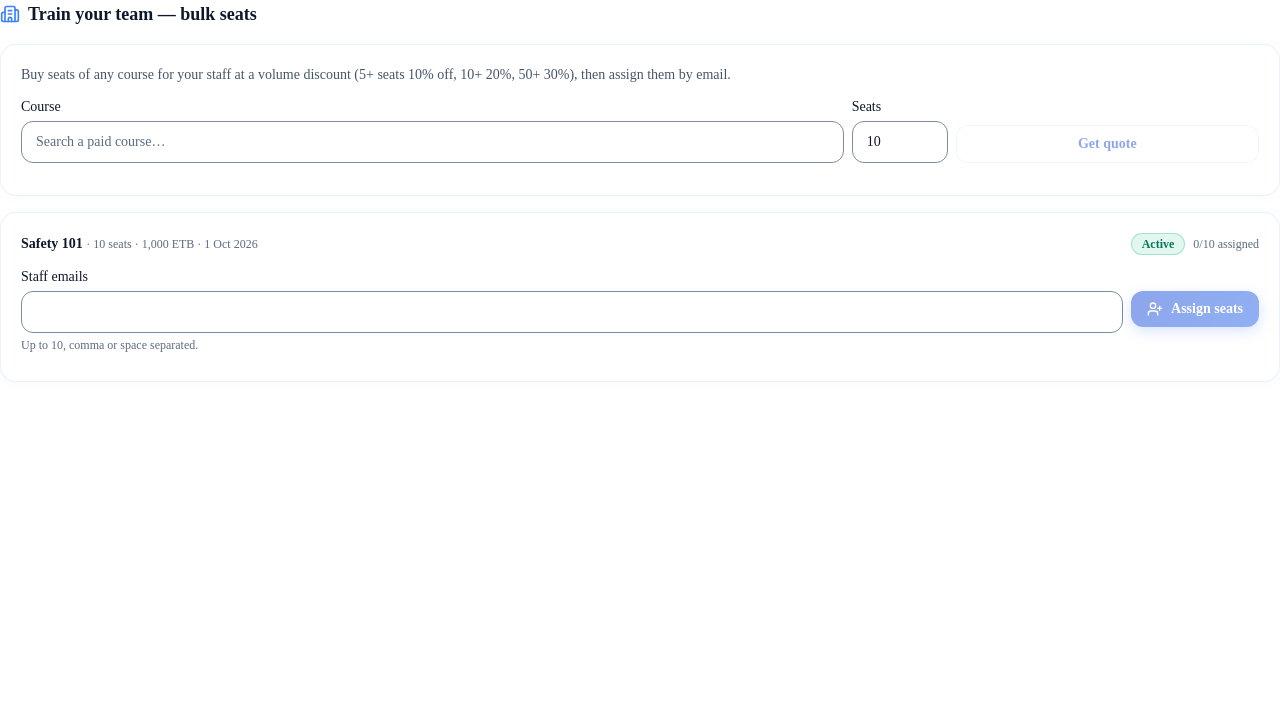
BulkPurchases assign dialog › sends the de-duplicated list once confirmed
Type "a@x.et a@x.et" into the field labelled "Staff emails".
click(572, 312); type("a@x.et a@x.et")  # box top-left (21, 291), bottom-right (1123, 333)
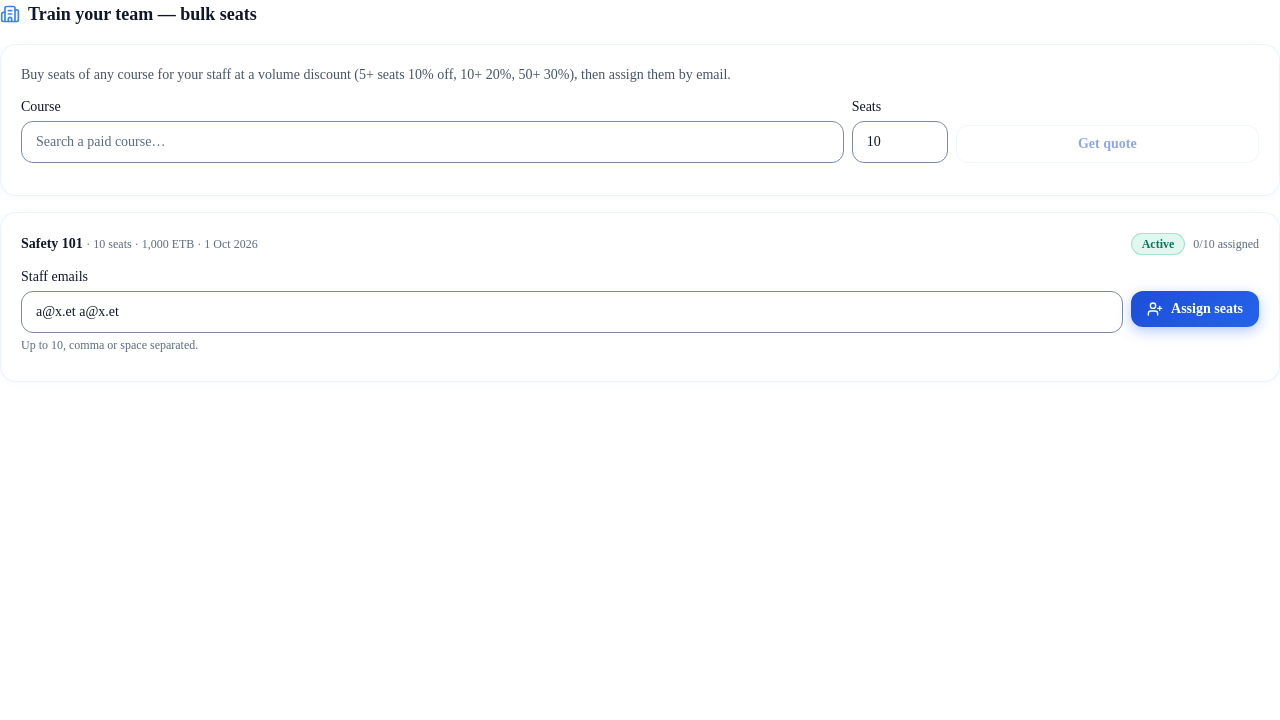
Click the button "Assign seats".
click(1195, 309)  # box top-left (1131, 291), bottom-right (1259, 327)
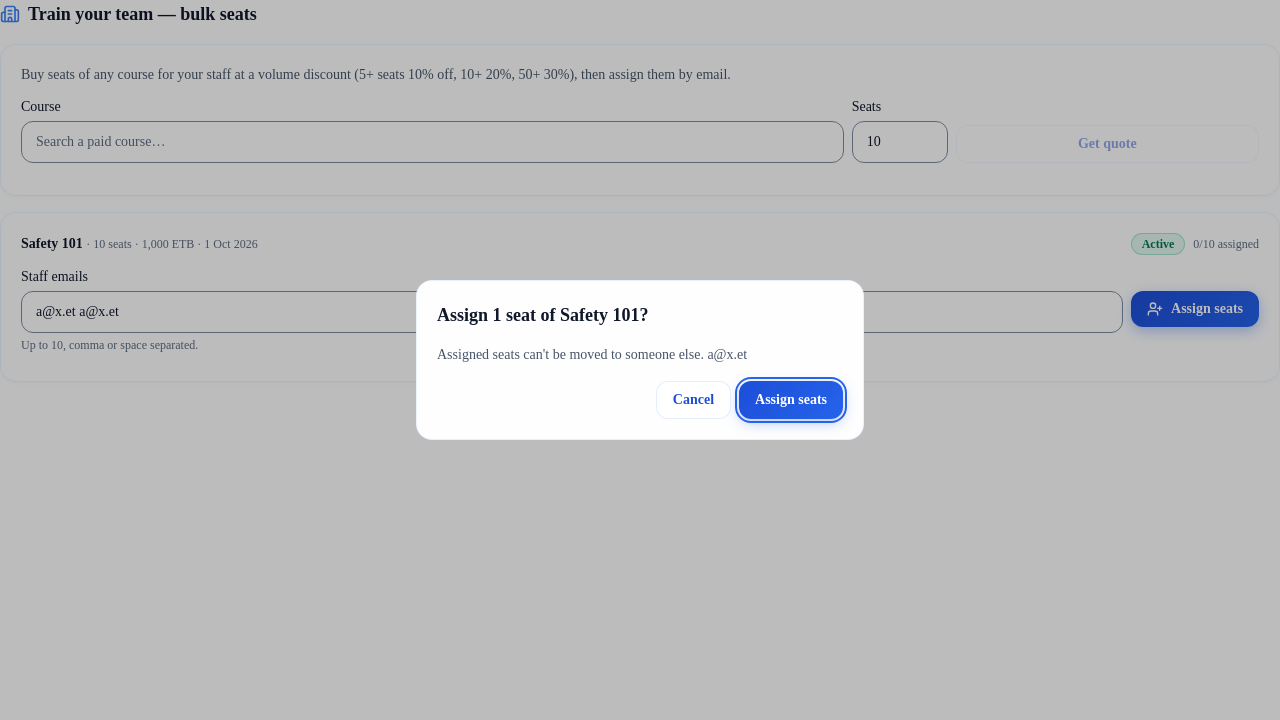
Click the button "Assign seats".
click(791, 400)  # box top-left (739, 381), bottom-right (843, 419)
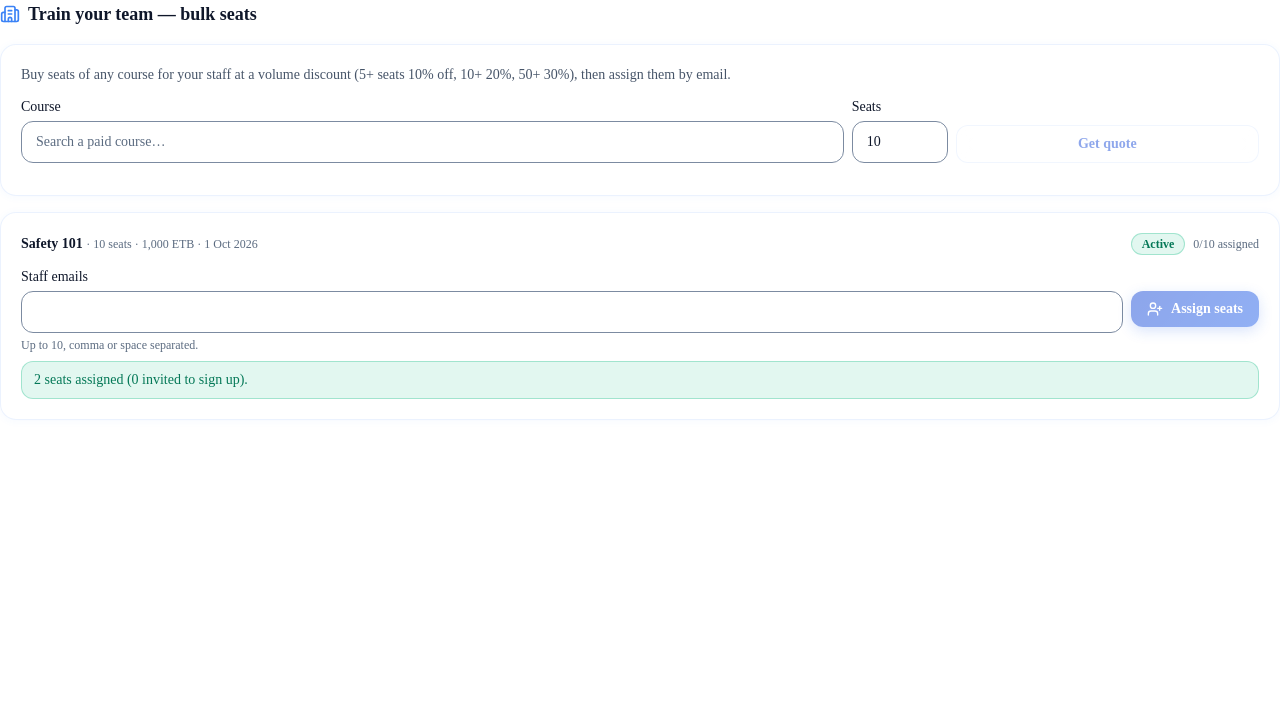
Result: the text "2 seats assigned (0 invited to sign up)." is shown at top-left (21, 361), bottom-right (1259, 399)
